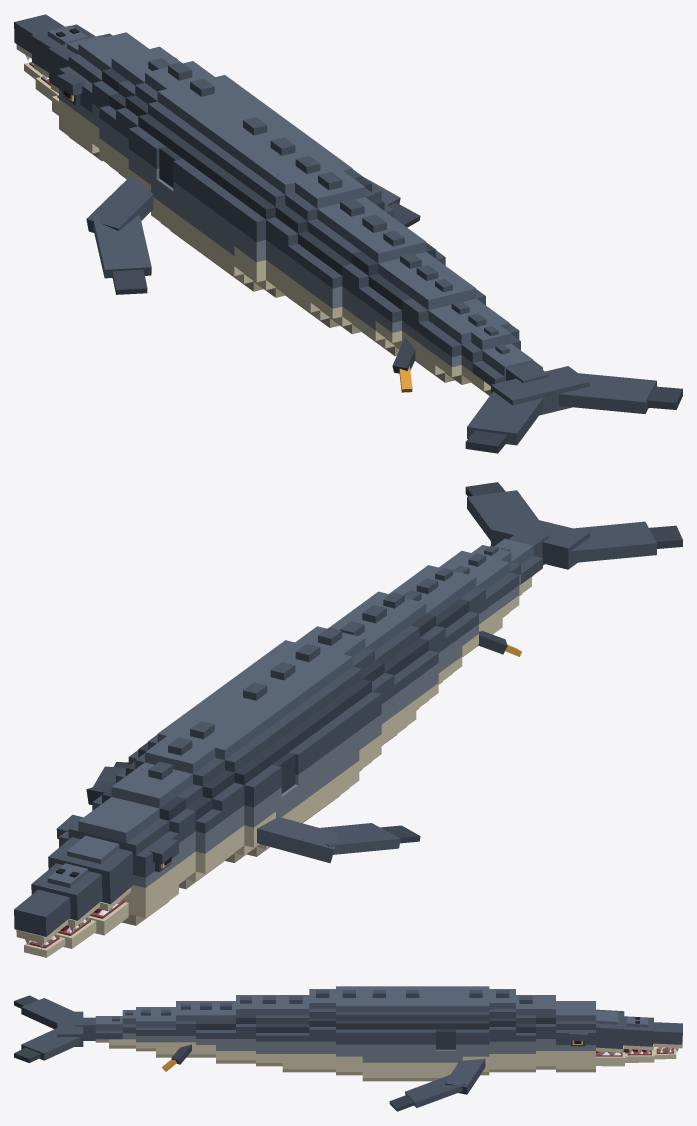
File: Basilosaurus.obj
3 renders of one model, top to bottom at view 1: azimuth 30°, elevation 25°; view 2: azimuth 150°, elevation 25°; view 3: azimuth 270°, elevation 25°, orthographic. The views are drawn at different scales.
Parts seen in each view (by area): view 1: Fluke, Head, S7, S6, S8, S5, FlipperL, S9, S11, S4, S10, S15 (+12 smaller); view 2: Head, Fluke, S7, S6, S4, S5, S3, FlipperL, S8, S2, S1, S11 (+10 smaller); view 3: Head, S6, S7, S5, Fluke, S8, S3, S9, S10, S4, FlipperR, S11 (+13 smaller).
Boxes of the visible parts, x1,y1,x2,y2 form: Fluke: (465, 366, 682, 453); Head: (14, 14, 177, 161); S7: (206, 132, 329, 291); S6: (178, 111, 302, 270); S8: (234, 152, 381, 297); S5: (151, 91, 274, 250); FlipperL: (86, 175, 153, 294); S9: (266, 171, 394, 311); S11: (310, 213, 409, 334); S4: (128, 75, 246, 191); S10: (288, 197, 386, 327); S15: (392, 276, 485, 392); Head: (14, 797, 178, 948); Fluke: (465, 482, 682, 569); S7: (235, 656, 359, 815); S6: (208, 677, 331, 823); S4: (128, 717, 275, 862); S5: (180, 697, 303, 856); S3: (116, 736, 244, 876); FlipperL: (257, 817, 420, 863); S8: (263, 640, 381, 771); S2: (128, 761, 221, 889); S1: (92, 774, 195, 883); S11: (340, 604, 438, 710); Head: (556, 1001, 682, 1072); S6: (396, 986, 429, 1081); S7: (362, 986, 395, 1081); S5: (429, 986, 462, 1081); Fluke: (14, 995, 83, 1062); S8: (336, 986, 362, 1075); S3: (489, 989, 515, 1072); S9: (309, 989, 335, 1072); S10: (282, 995, 309, 1072); S4: (462, 986, 489, 1075); FlipperR: (389, 1058, 485, 1111); S11: (256, 995, 282, 1066).
Bounding box in the file's own units: 13.92 × 5.59 × 44.14.
Materials: 1 (1 with a texture image).
